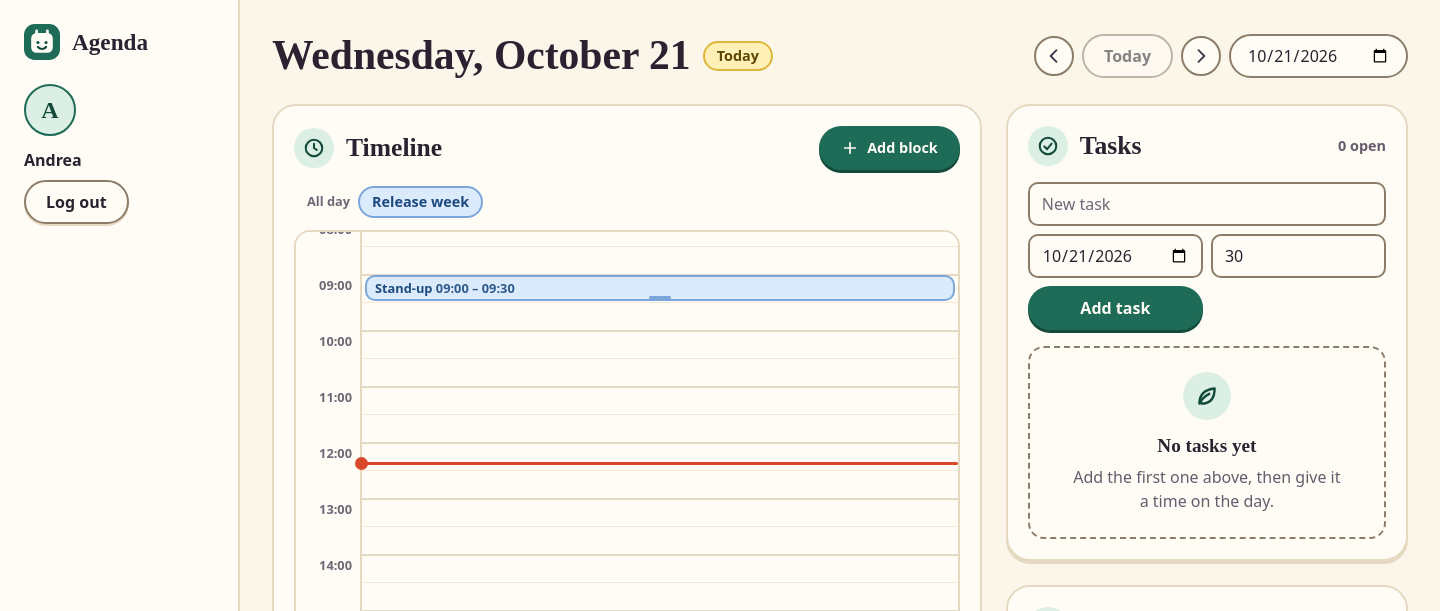
Scenario: planning a day › refuses an end that is not after the start, without sending anything
The image size is (1440, 611).
(page scrolled)
Click the button "Stand-up 09:00 – 09:30" at coordinates (404, 288), box [365,275,955,301]
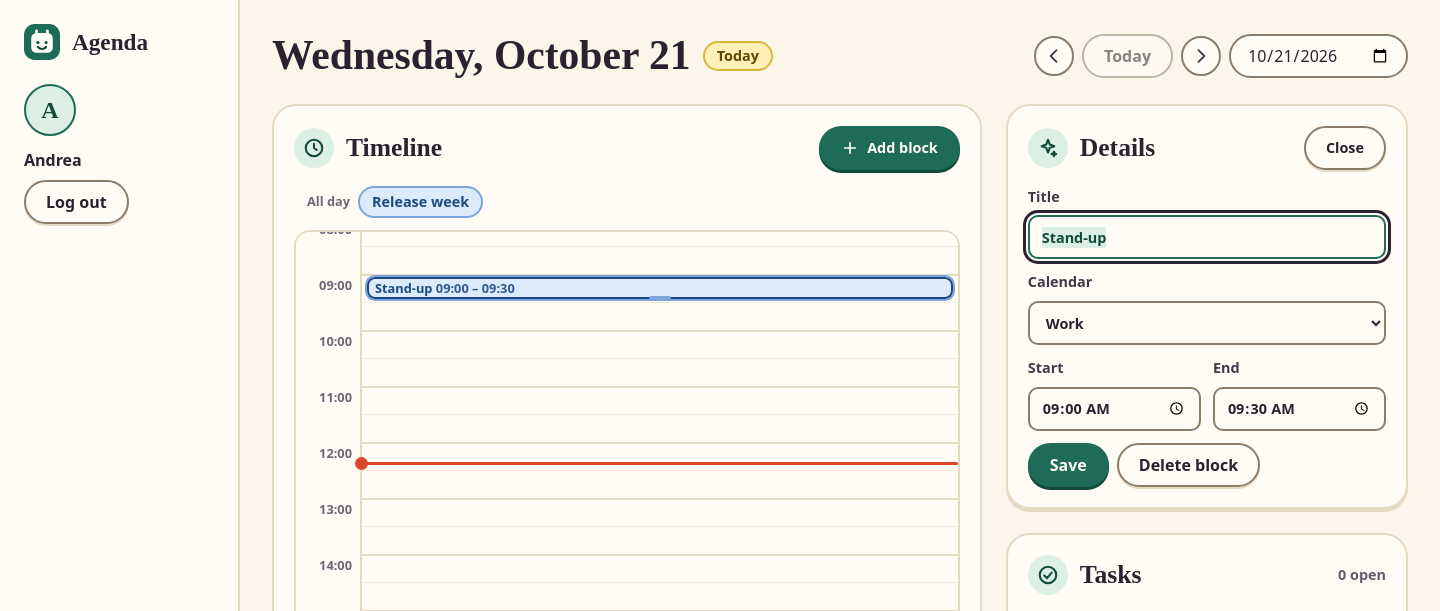
Replace the text in the time field labelled "End" with "08:00" at coordinates (1299, 409), box [1213,387,1386,431]
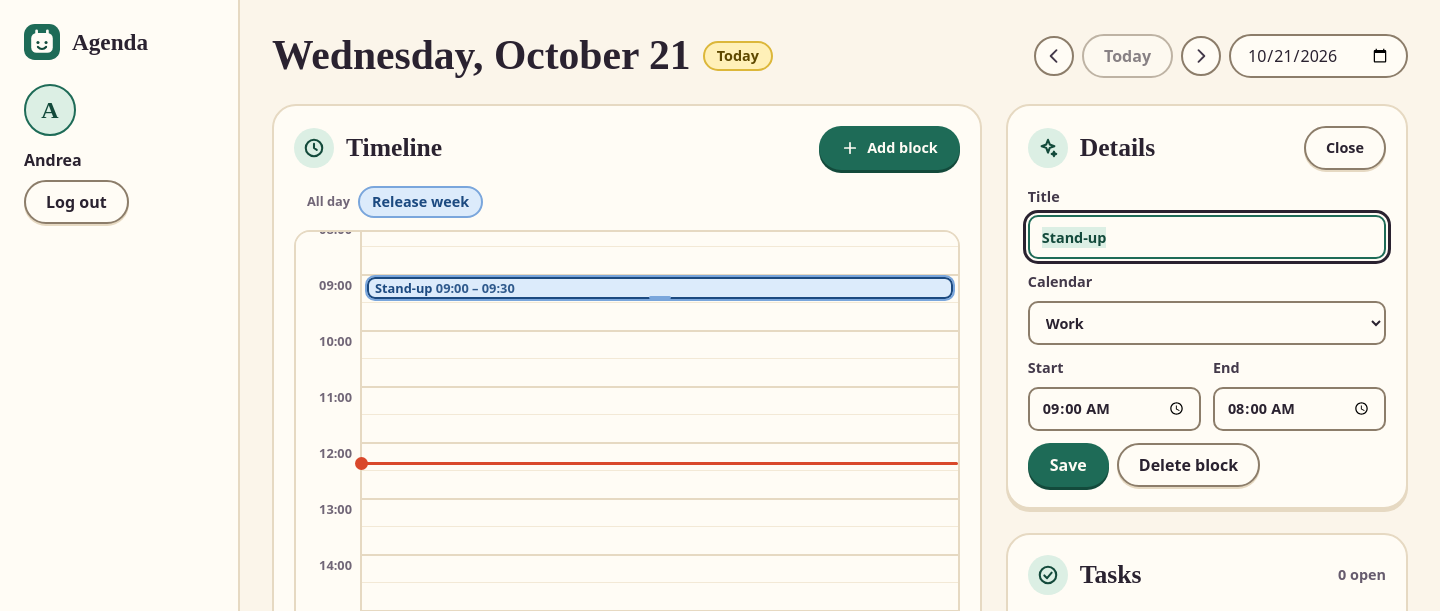
Click the button "Save" at coordinates (1068, 465), box [1028,443,1109,487]
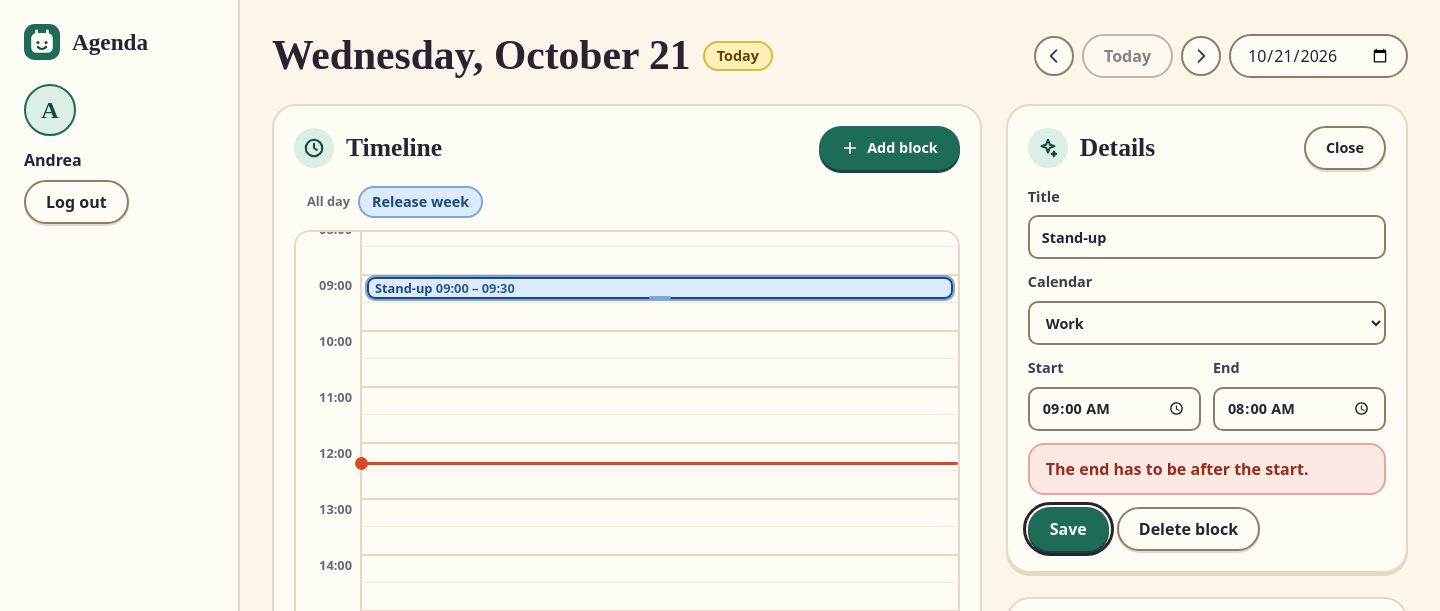
Expected: the message reads "The end has to be after the start.", [1046,458,1309,480]
